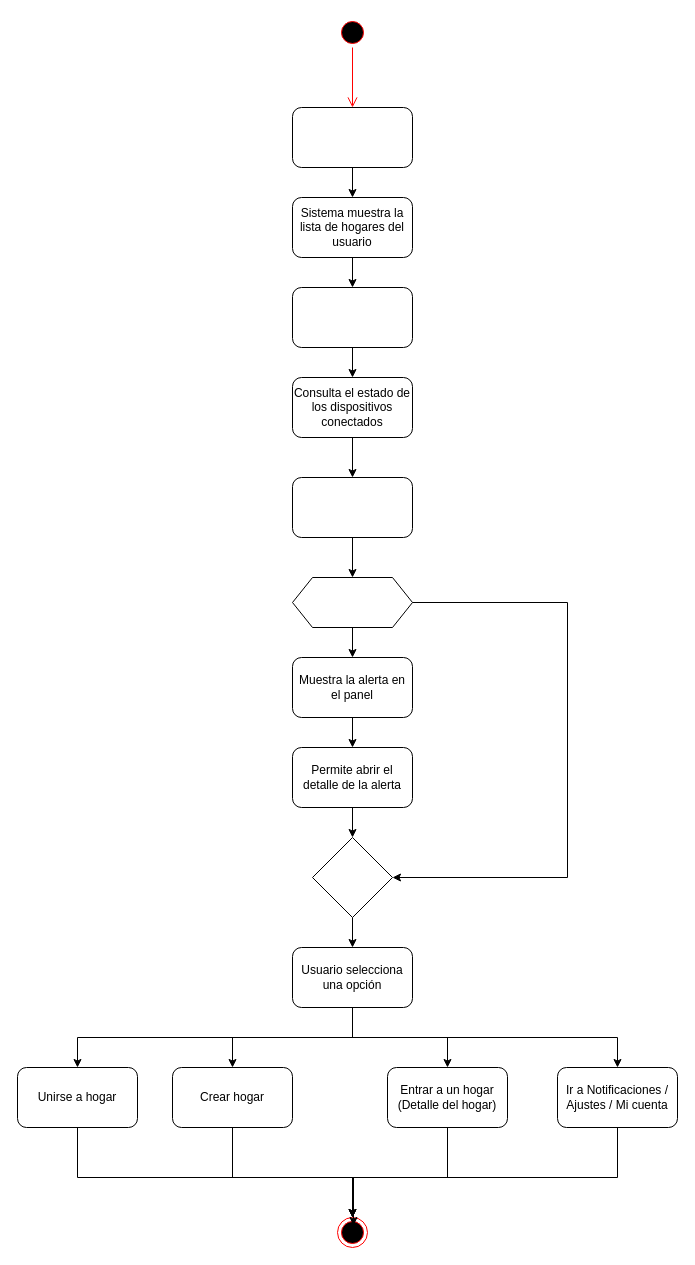
The diagram is 695 pixels wide and 1265 high, and some of its shapes have lost their labels. Each missing label, with the centre of its shape:
Usuario inicia sesión y accede a Inicio (Dashboard): the point at 352,137
Verifica si hay alertas activas: the point at 352,507
Visualiza el resumen de consumo del hogar seleccionado: the point at 352,317
¿Alertas activas?: the point at 352,602
